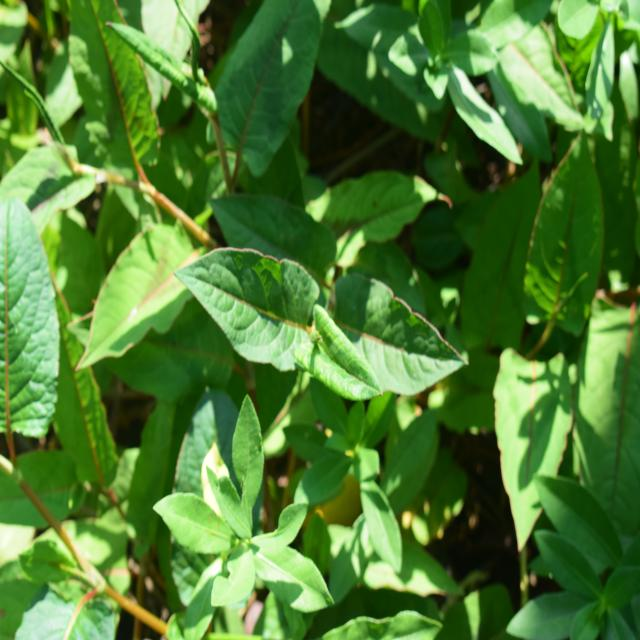Chinese_knotweed: (156, 203, 457, 418), (0, 192, 133, 504)
